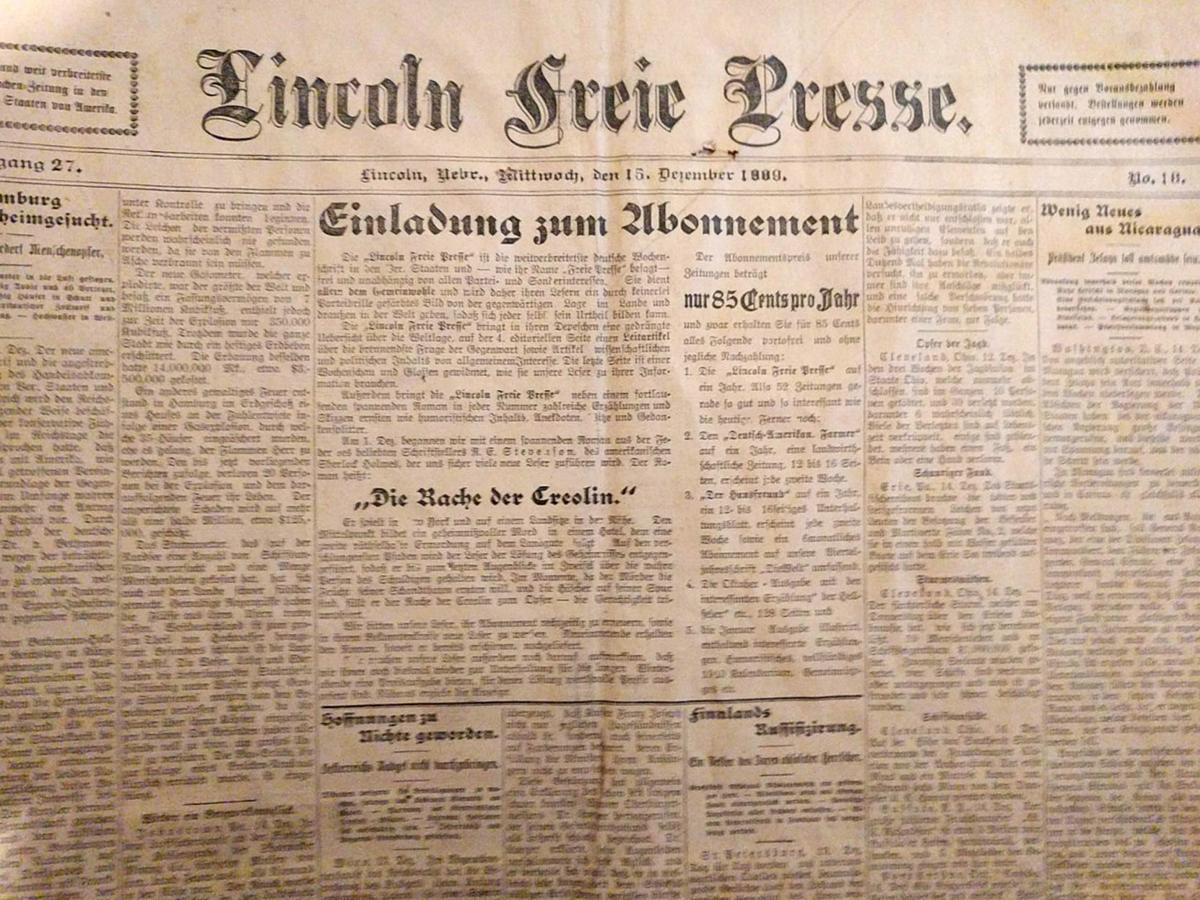news_paper: (3, 1, 1200, 894)
